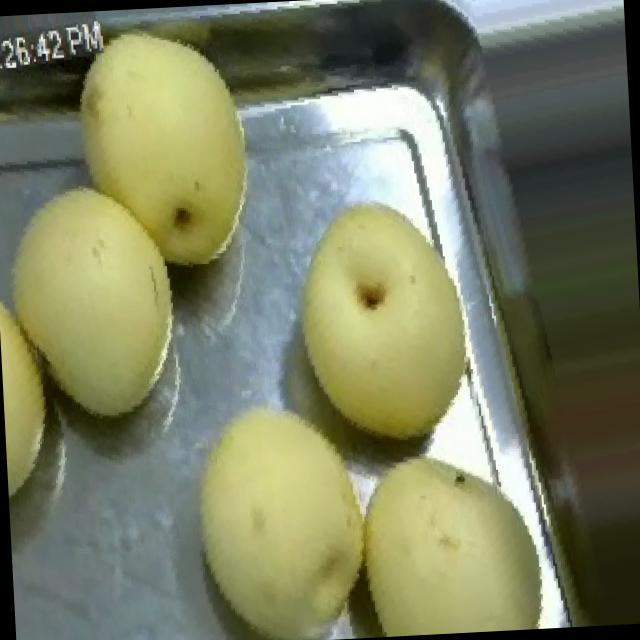Fruit: (268, 174, 506, 471), (44, 7, 286, 297), (161, 370, 407, 640), (0, 160, 206, 446), (342, 422, 558, 638)
